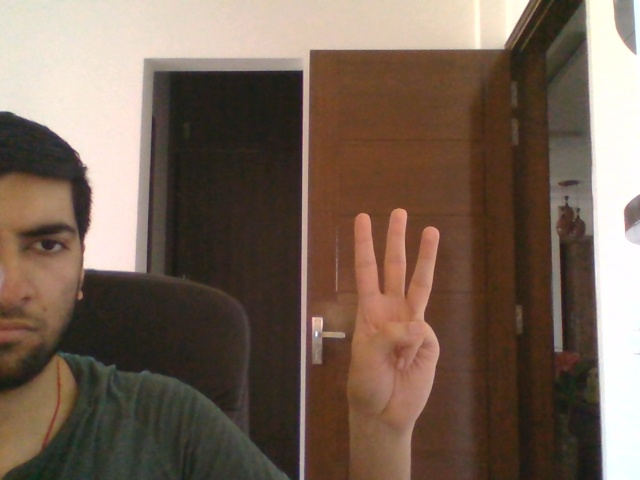LetterW: (343, 206, 441, 434)
